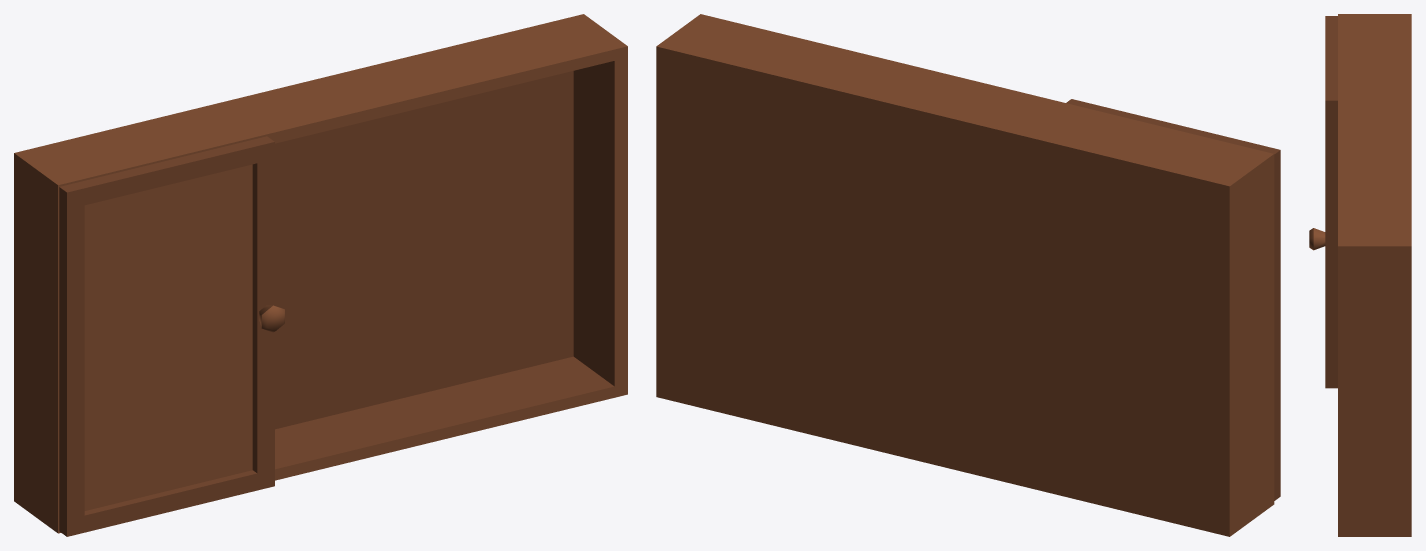
Rendered from 03_furniture_shelf2.FBX.
The picture shows the model from 3 angles, left to right: view 1: azimuth 30°, elevation 25°; view 2: azimuth 150°, elevation 25°; view 3: azimuth 270°, elevation 25°; orthographic projection. The views are drawn at different scales.
Parts seen in each view (by area): view 1: furniture_Shelf2 (×2); view 2: furniture_Shelf2 (×2); view 3: furniture_Shelf2 (×2).
Part boxes in pixels (x1,y1,x2,y2): furniture_Shelf2 (×2): (14, 14, 627, 536); furniture_Shelf2 (×2): (656, 14, 1280, 536); furniture_Shelf2 (×2): (1309, 14, 1411, 536).
Size of the model in its own units: 74.2 by 43.34 by 13.85.
